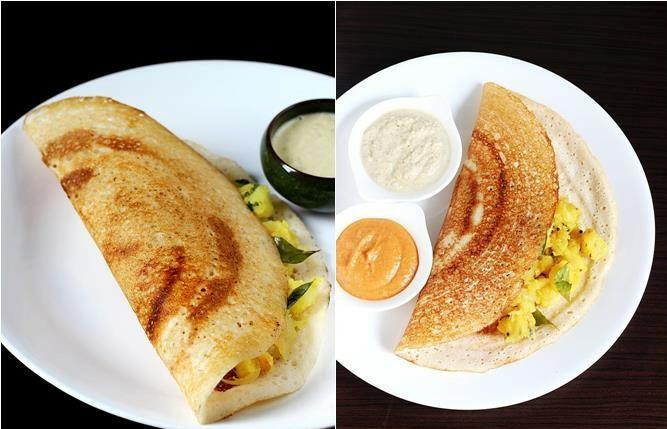CoconutChutney: (360, 109, 453, 192), (273, 113, 334, 178)
Dosa: (24, 96, 332, 424), (394, 81, 612, 372)
